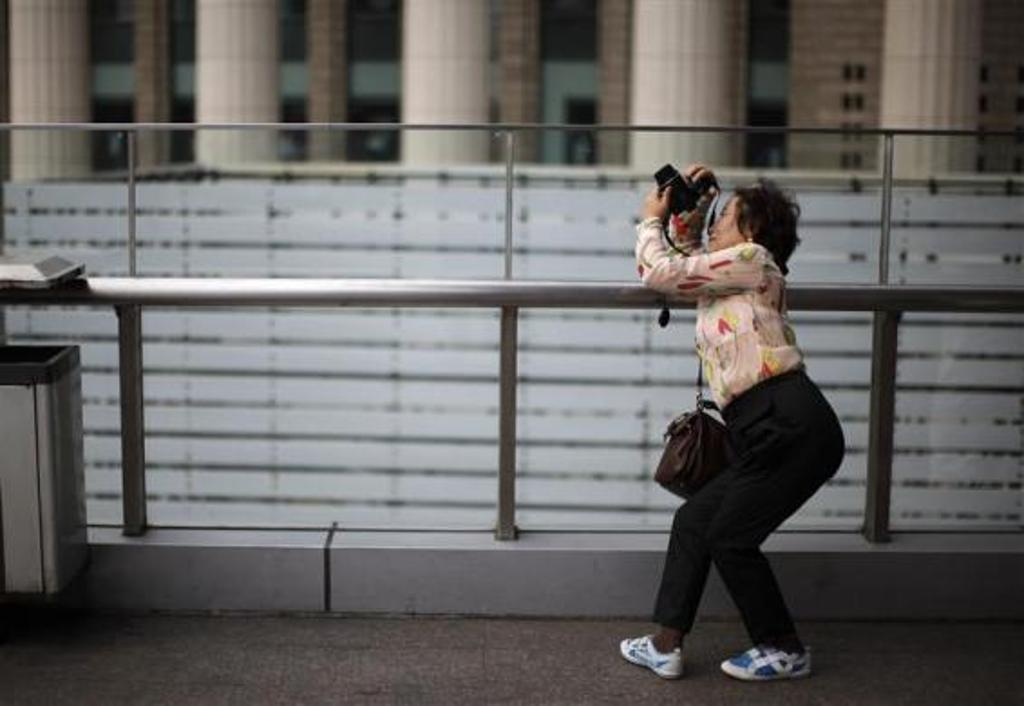face: (688, 192, 764, 270)
